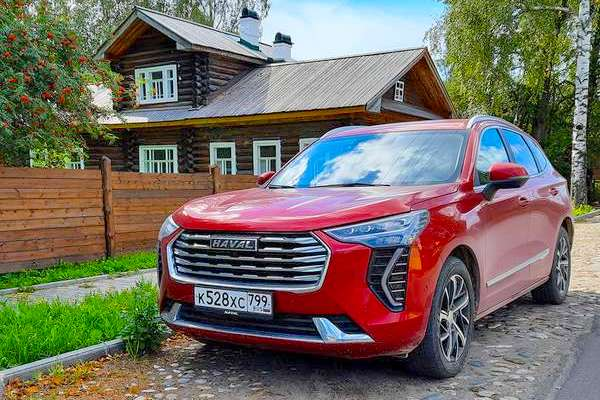car: (154, 113, 578, 381)
plate: (192, 284, 276, 317)
